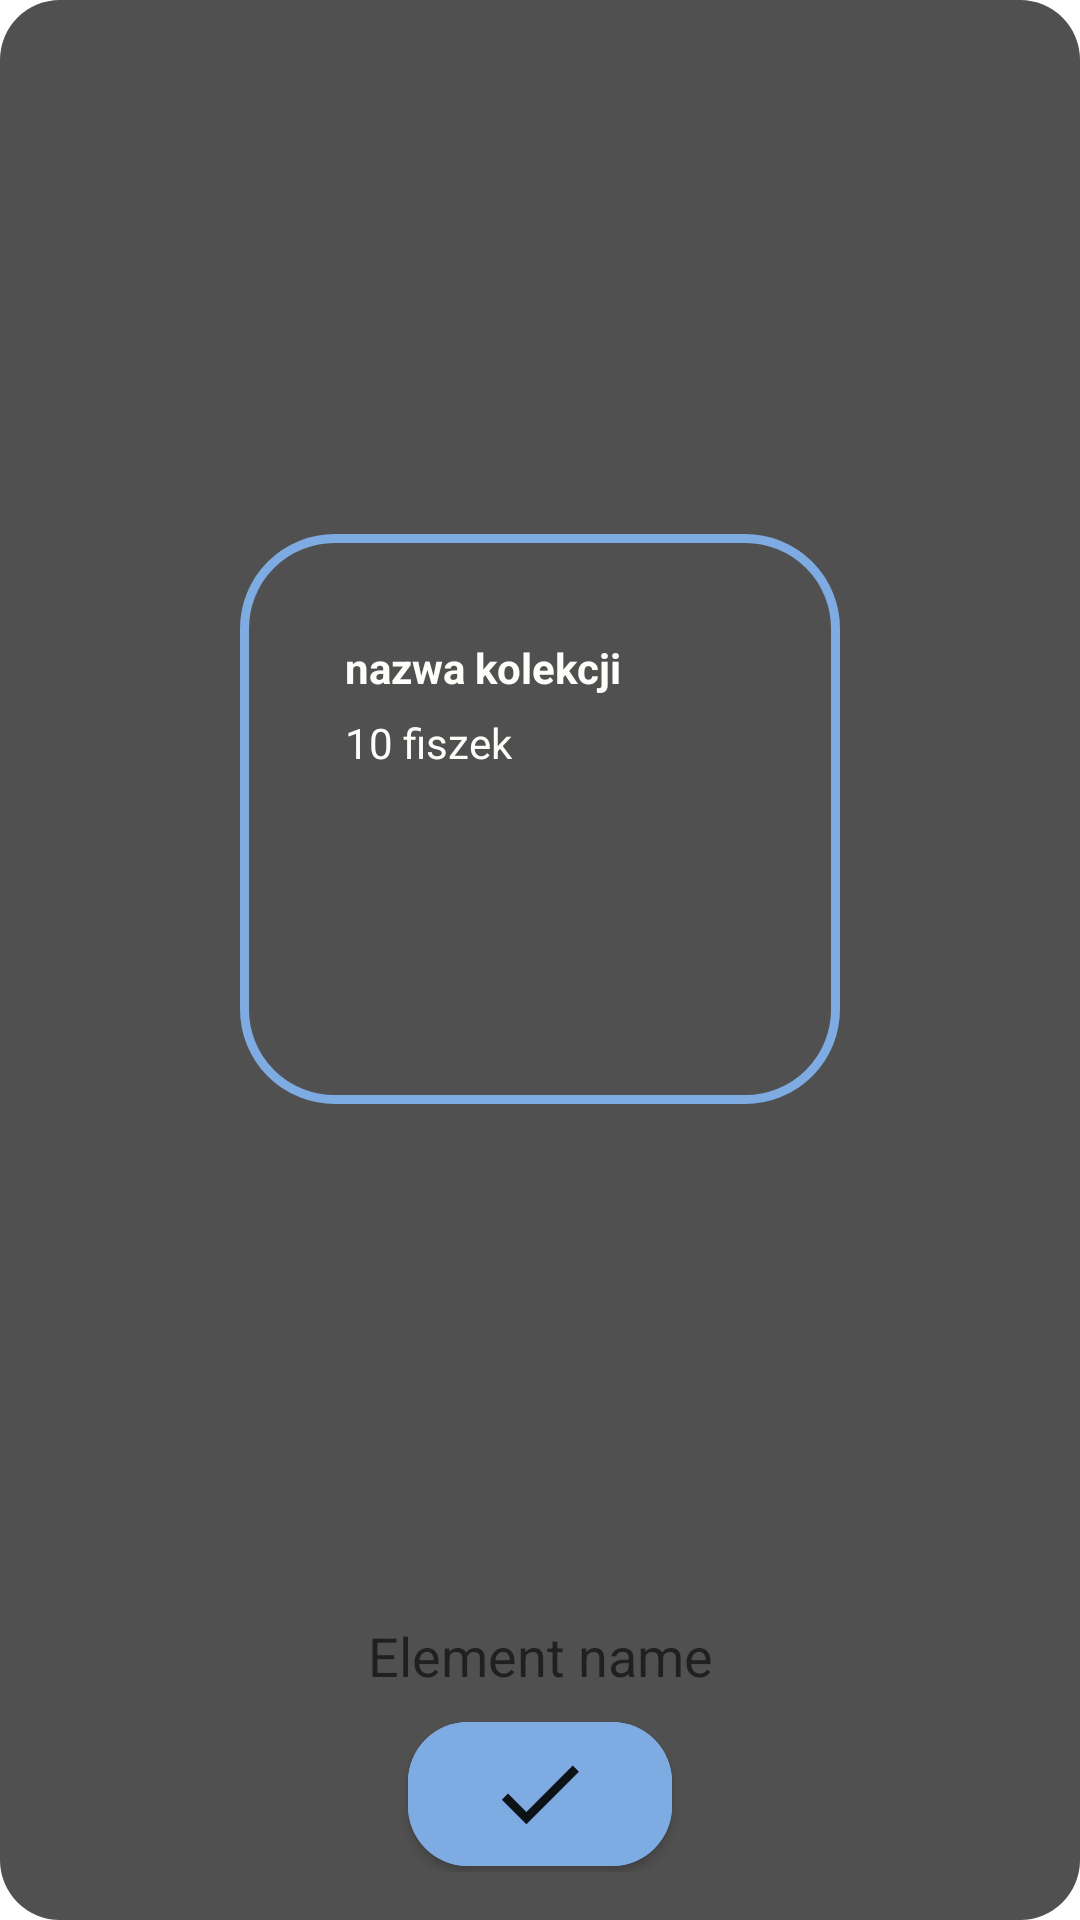

Icon bounding boxes for this 1080px x 1920px phone screenshot, format (x1, y1, x2, y2):
done: (408, 1722, 672, 1866)
